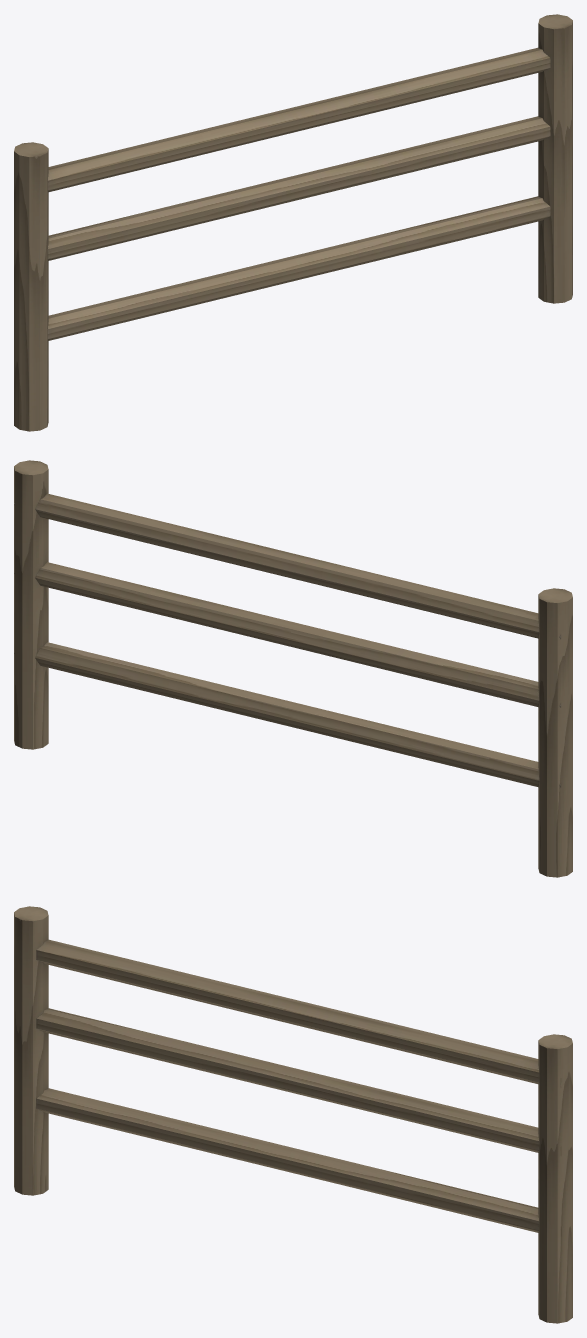
The model's file is split-rail.glb.
The picture shows the model from 3 angles, top to bottom: view 1: azimuth 30°, elevation 25°; view 2: azimuth 150°, elevation 25°; view 3: azimuth 330°, elevation 25°; orthographic projection.
Parts seen in each view (by area): view 1: wood_x, wood_z; view 2: wood_x, wood_z; view 3: wood_x, wood_z.
Part boxes in pixels (x1=…): wood_x: x1=47, y1=47, x2=550, y2=340; wood_z: x1=14, y1=14, x2=572, y2=431; wood_x: x1=14, y1=493, x2=560, y2=787; wood_z: x1=14, y1=460, x2=572, y2=877; wood_x: x1=36, y1=939, x2=539, y2=1232; wood_z: x1=14, y1=906, x2=572, y2=1323.
Size of the model in its own units: 2.53 by 1.2 by 0.1399.
2 materials, 2 textured.
